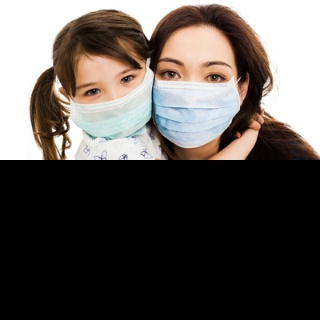with_mask: (153, 56, 238, 149), (67, 65, 155, 136)
